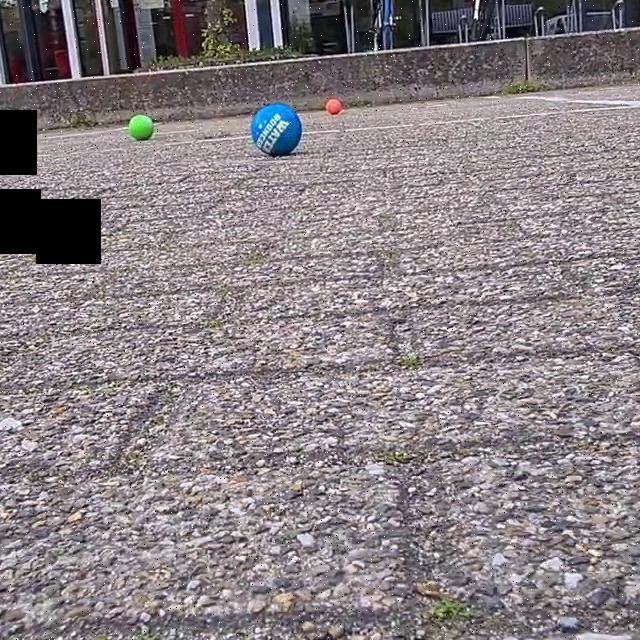ball: (126, 113, 154, 146)
